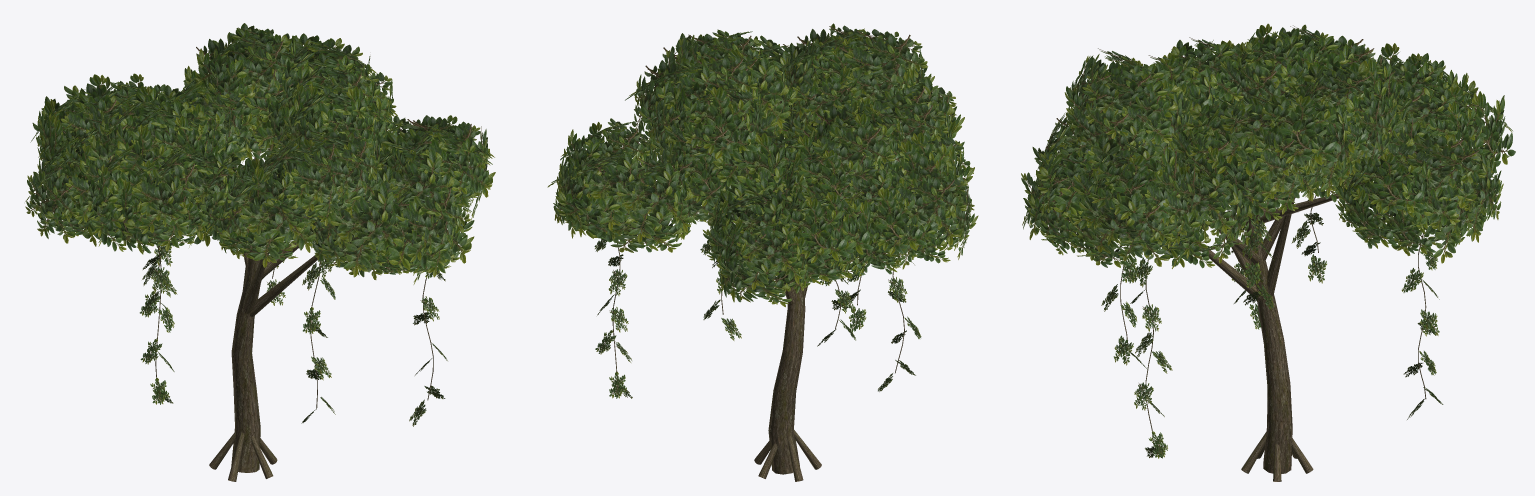
The model's file is tree_03.glb.
3 views of the same model, side by side, from view 1: azimuth 30°, elevation 25°; view 2: azimuth 150°, elevation 25°; view 3: azimuth 270°, elevation 25° (orthographic). The views are drawn at different scales.
Parts seen in each view (by area): view 1: tree_03; view 2: tree_03; view 3: tree_03.
Part boxes in pixels (x1,y1,x2,y2): tree_03: (25,23,495,481); tree_03: (547,23,978,481); tree_03: (1021,23,1515,481).
Bounding box in the file's own units: 9.63 × 9.42 × 10.25.
Materials: 2 (2 with a texture image).
